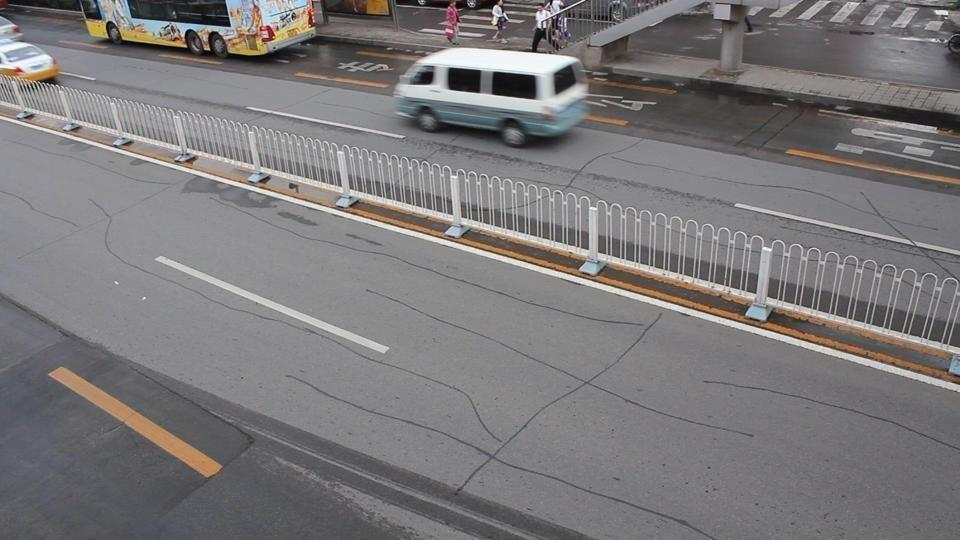car: (392, 45, 589, 148), (0, 34, 61, 84), (0, 15, 21, 38)
